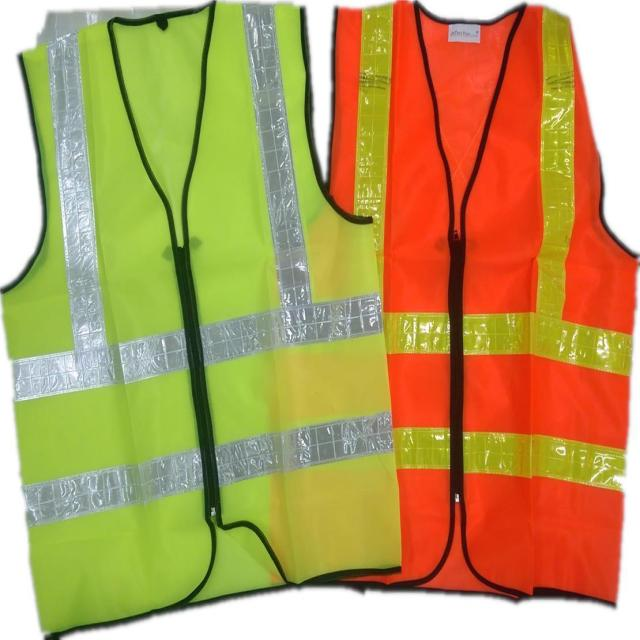Vest: (0, 0, 402, 638), (326, 2, 640, 616)
